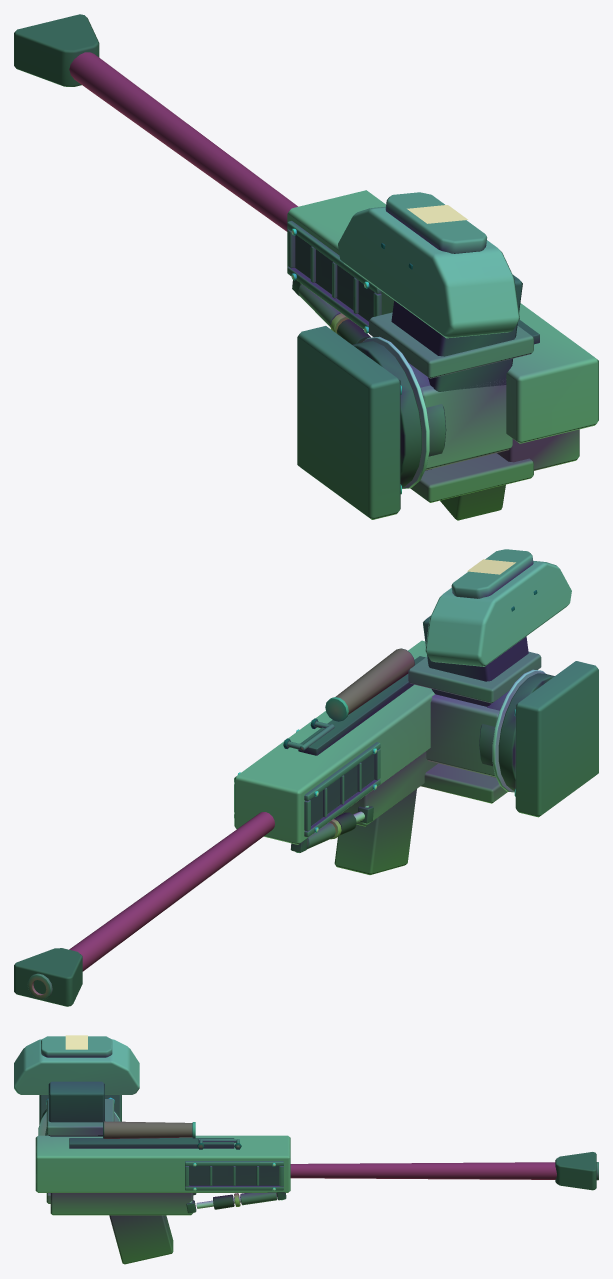
Rendered from arm_m82.glb.
3 renders of one model, top to bottom at view 1: azimuth 30°, elevation 25°; view 2: azimuth 150°, elevation 25°; view 3: azimuth 270°, elevation 25°, orthographic. The views are drawn at different scales.
Parts seen in each view (by area): view 1: Body__armor, Body__gunmetal, Body__dark, Body__armor_sub, Body__chrome, Body__decal; view 2: Body__armor, Body__gunmetal, Body__dark, Body__armor_sub, Body__chrome; view 3: Body__armor, Body__gunmetal, Body__dark, Body__armor_sub, Body__chrome, Body__decal.
Boxes of the visible parts, x1,y1,x2,y2 form: Body__armor: (287, 190, 598, 470); Body__gunmetal: (69, 52, 505, 520); Body__dark: (14, 14, 539, 487); Body__armor_sub: (369, 192, 579, 502); Body__chrome: (291, 228, 429, 494); Body__decal: (407, 205, 467, 223); Body__armor: (234, 561, 571, 844); Body__gunmetal: (27, 661, 598, 1000); Body__dark: (14, 590, 554, 1006); Body__armor_sub: (338, 549, 541, 826); Body__chrome: (238, 669, 545, 852); Body__armor: (14, 1039, 290, 1192); Body__gunmetal: (39, 1095, 598, 1264); Body__dark: (41, 1081, 596, 1213); Body__armor_sub: (41, 1036, 193, 1215); Body__chrome: (38, 1097, 283, 1213); Body__decal: (65, 1035, 87, 1049).
Bounding box in the file's own units: 0.791 × 1.15 × 3.12.
